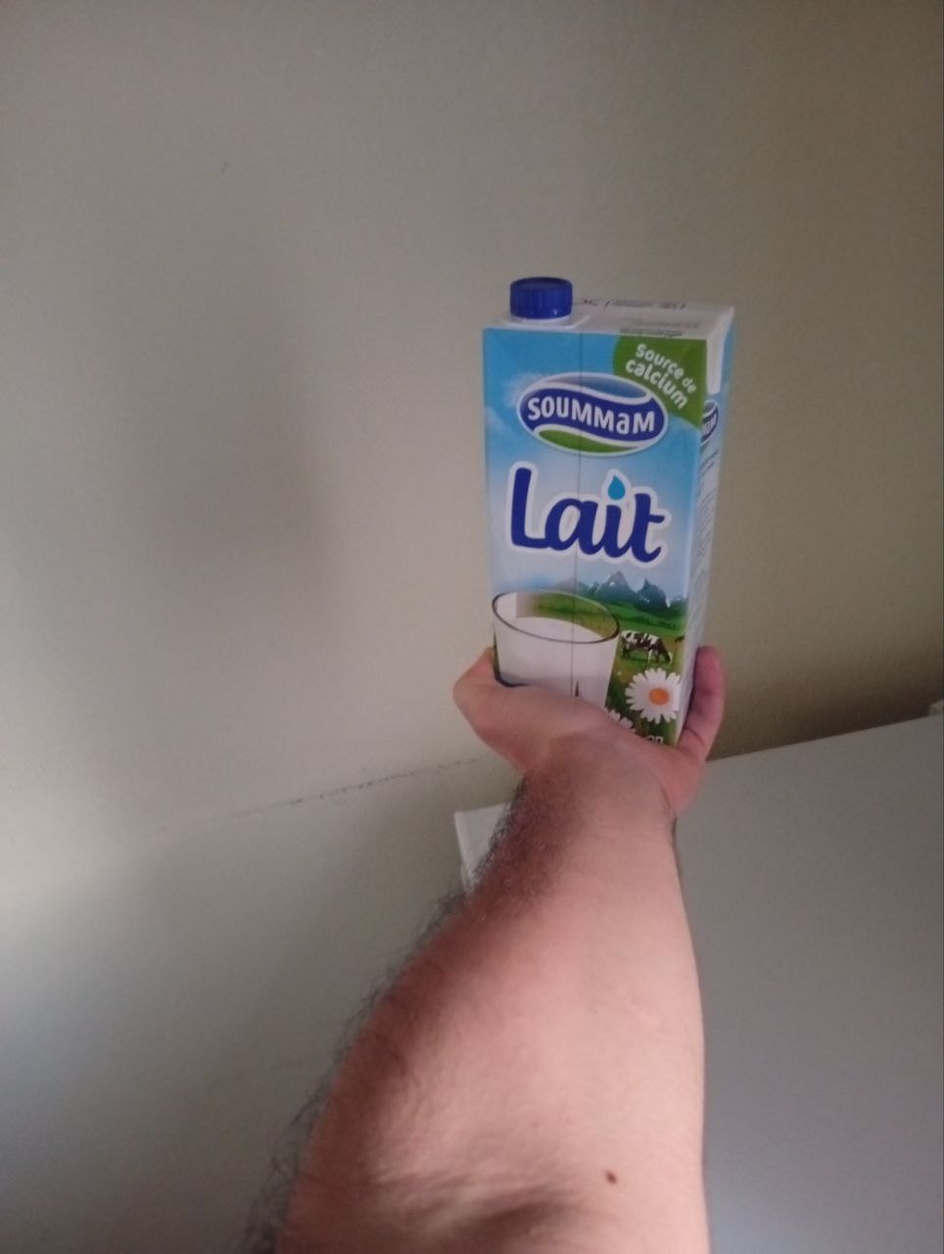soummam_milk: (477, 263, 736, 757)
